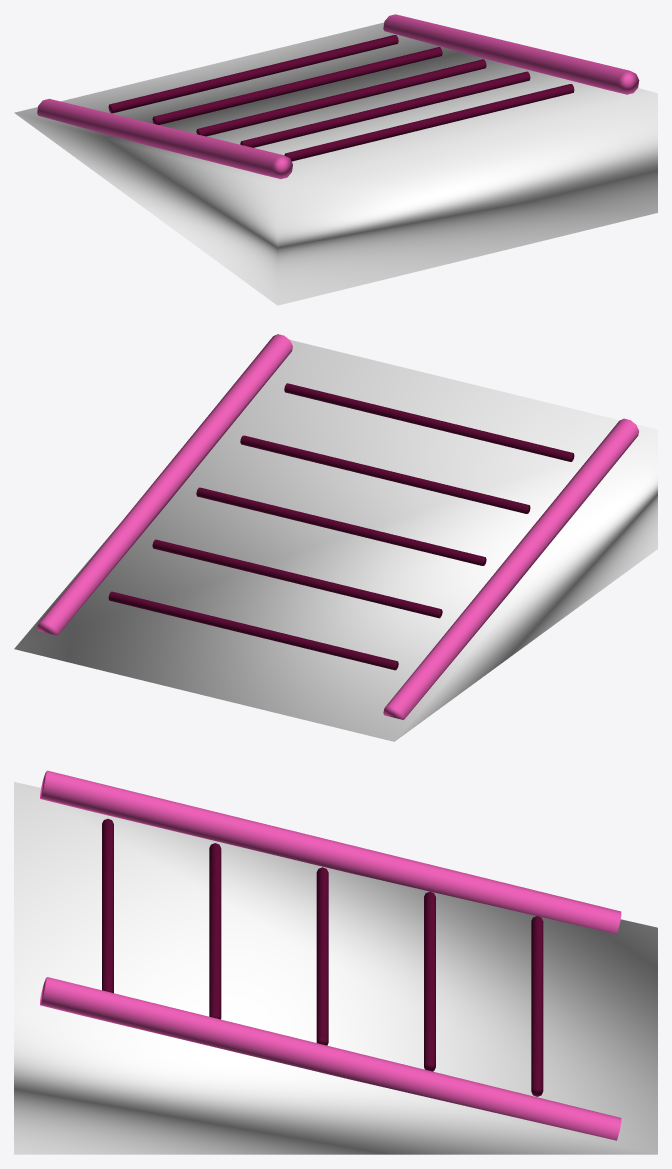
Rendered from Ramp.glb.
3 renders of one model, top to bottom at view 1: azimuth 30°, elevation 25°; view 2: azimuth 150°, elevation 25°; view 3: azimuth 270°, elevation 25°, orthographic. The views are drawn at different scales.
Visible parts, largest first — view 1: Body, Grip, Rails; view 2: Body, Rails, Grip; view 3: Body, Rails, Grip.
Boxes of the visible parts, x1,y1,x2,y2 form: Body: (14, 22, 657, 305); Grip: (108, 35, 574, 161); Rails: (37, 14, 639, 178); Body: (14, 340, 657, 741); Rails: (37, 334, 638, 719); Grip: (108, 383, 574, 670); Body: (14, 782, 657, 1154); Rails: (40, 770, 621, 1140); Grip: (102, 818, 543, 1096).
Bounding box in the file's own units: 1.12 × 0.3813 × 1.34.
1 material, 1 textured.
